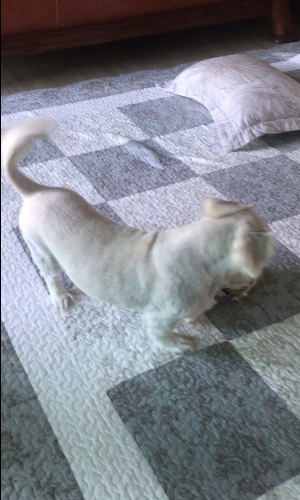ddubi: (1, 112, 272, 358)
